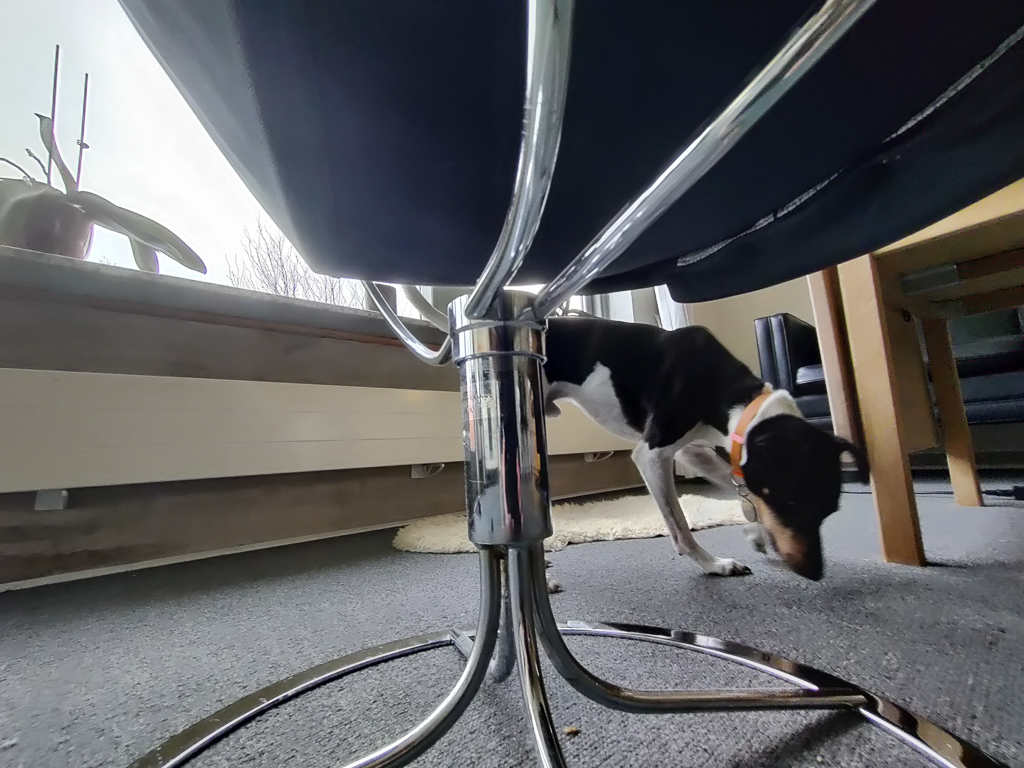Dog: (389, 273, 887, 604)
